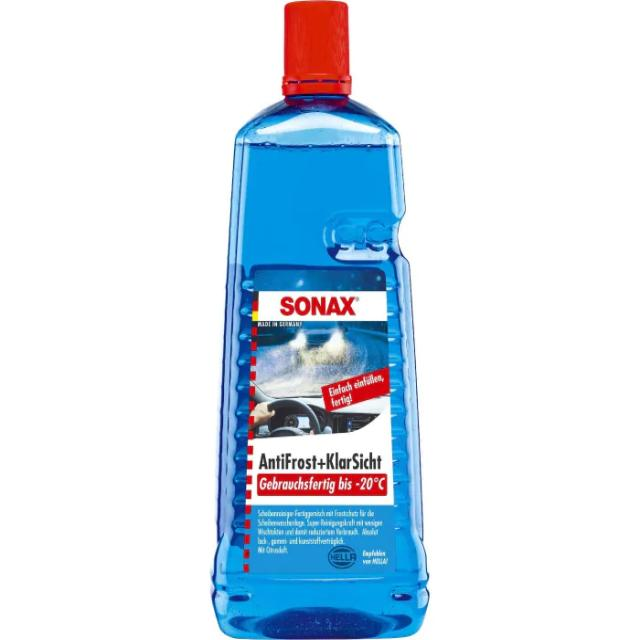winwinshield_washer: (206, 0, 434, 638)
